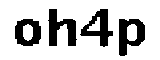4: (79, 6, 115, 49)
h: (46, 7, 79, 48)
o: (11, 17, 44, 47)
p: (116, 14, 150, 60)
